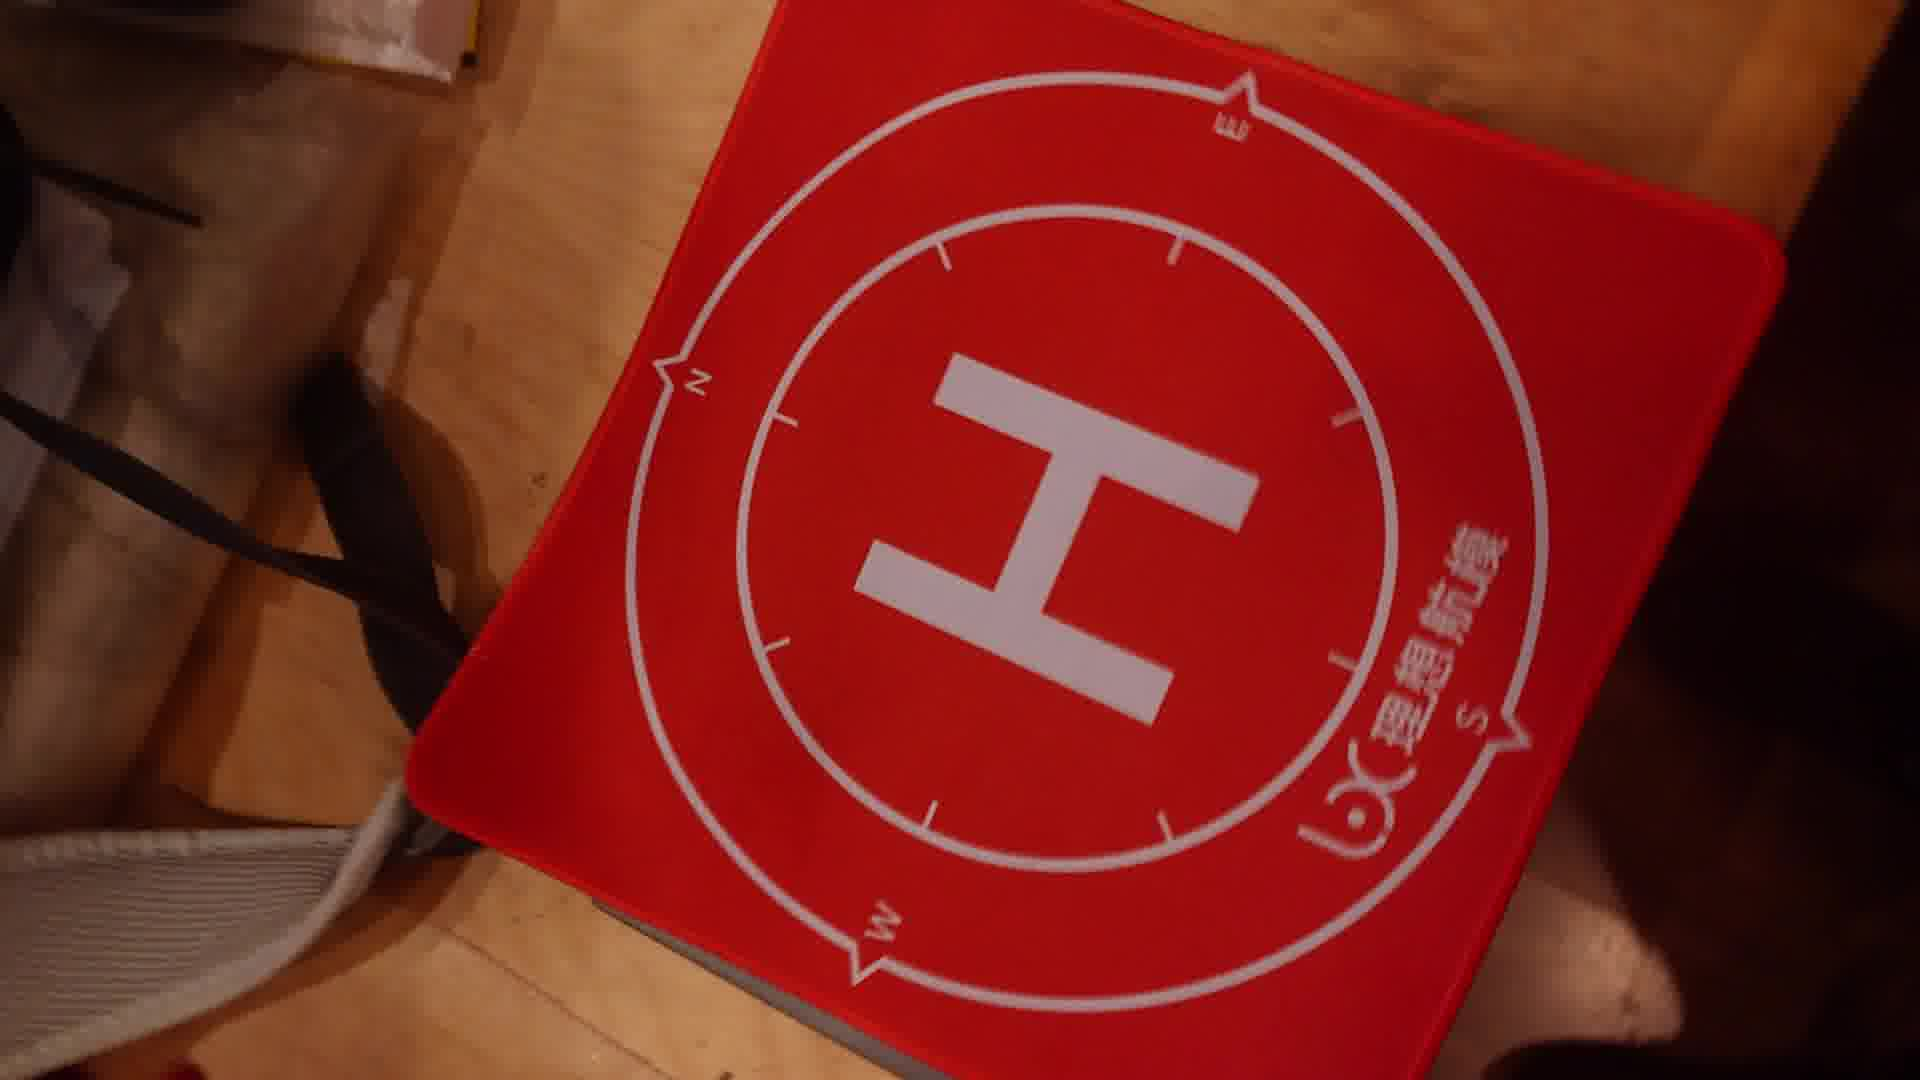H: (851, 351, 1263, 724)
